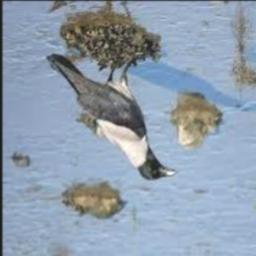Crow: (46, 53, 179, 181)
